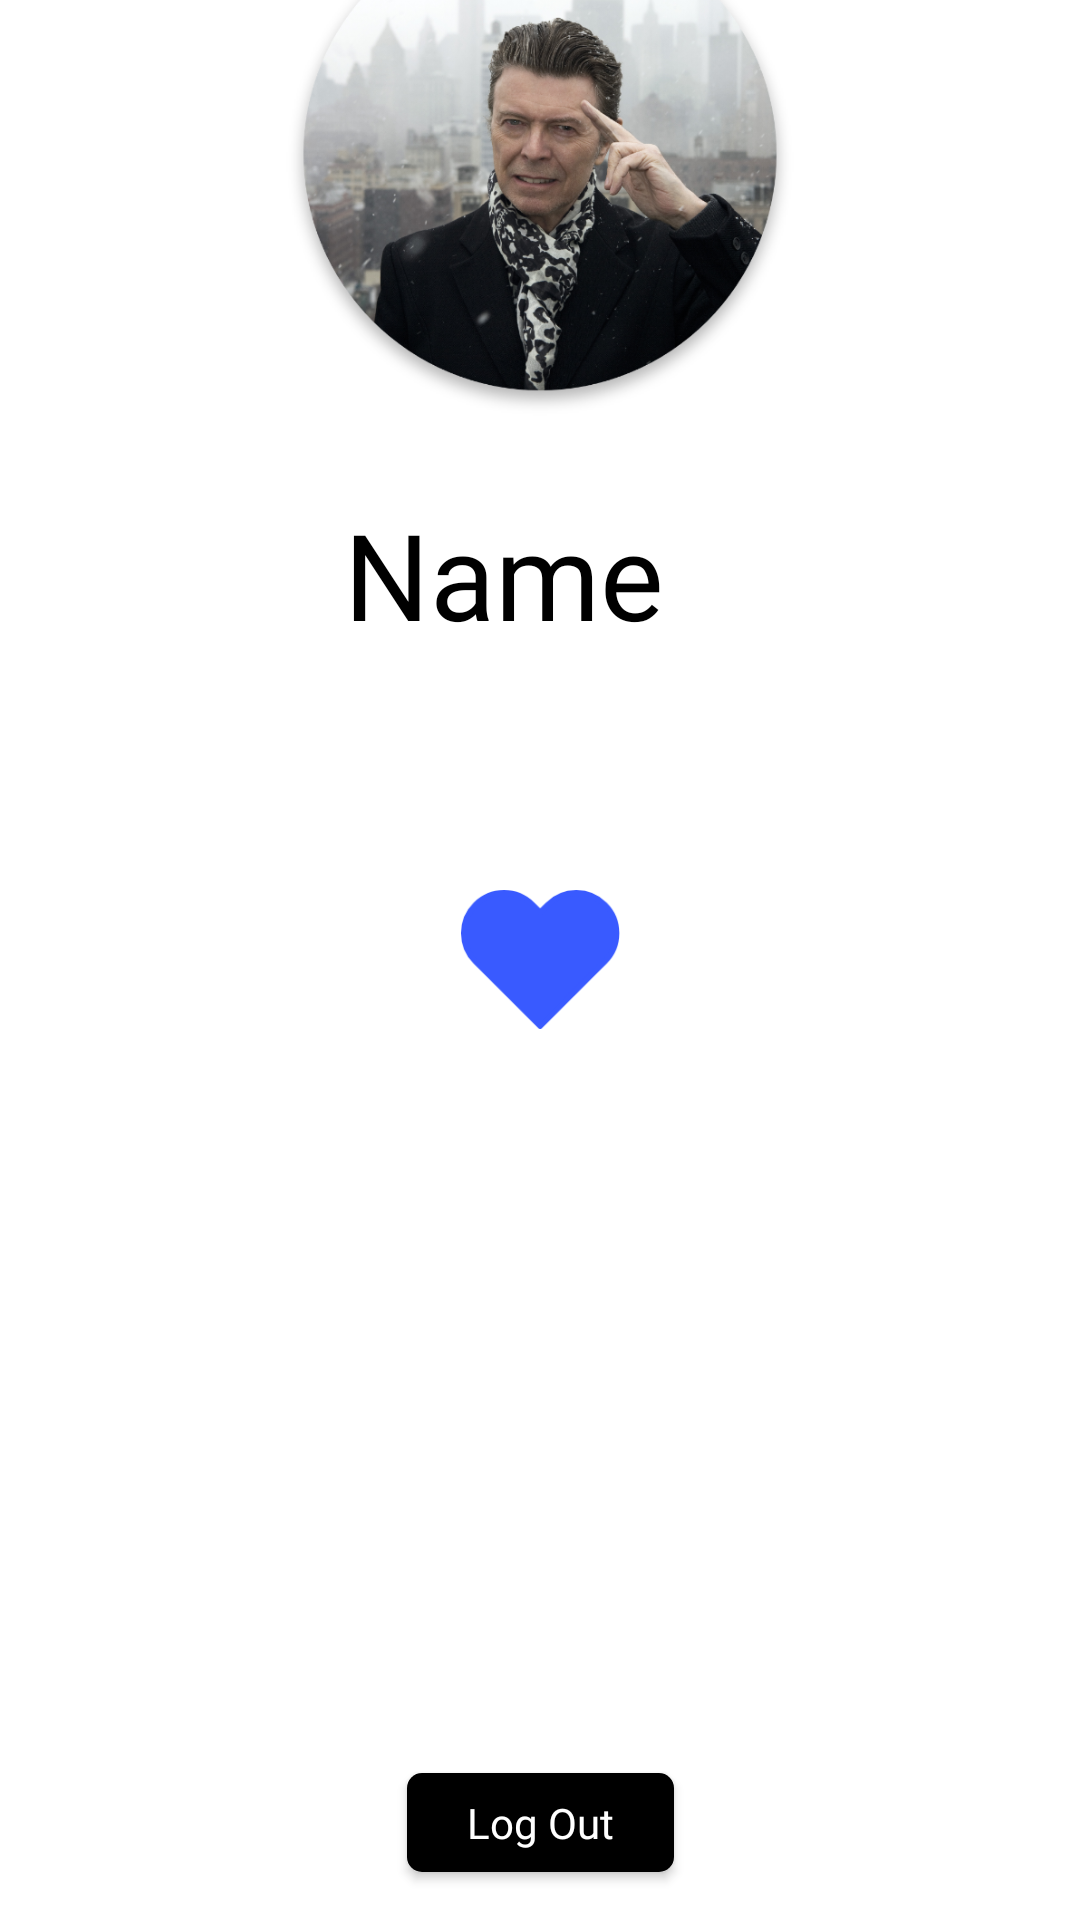

Screen size 1080*1920. Icon name, then its box in pixels as bbox=(x1, y1, x2, y2):
heart: bbox=(461, 890, 620, 1029)
